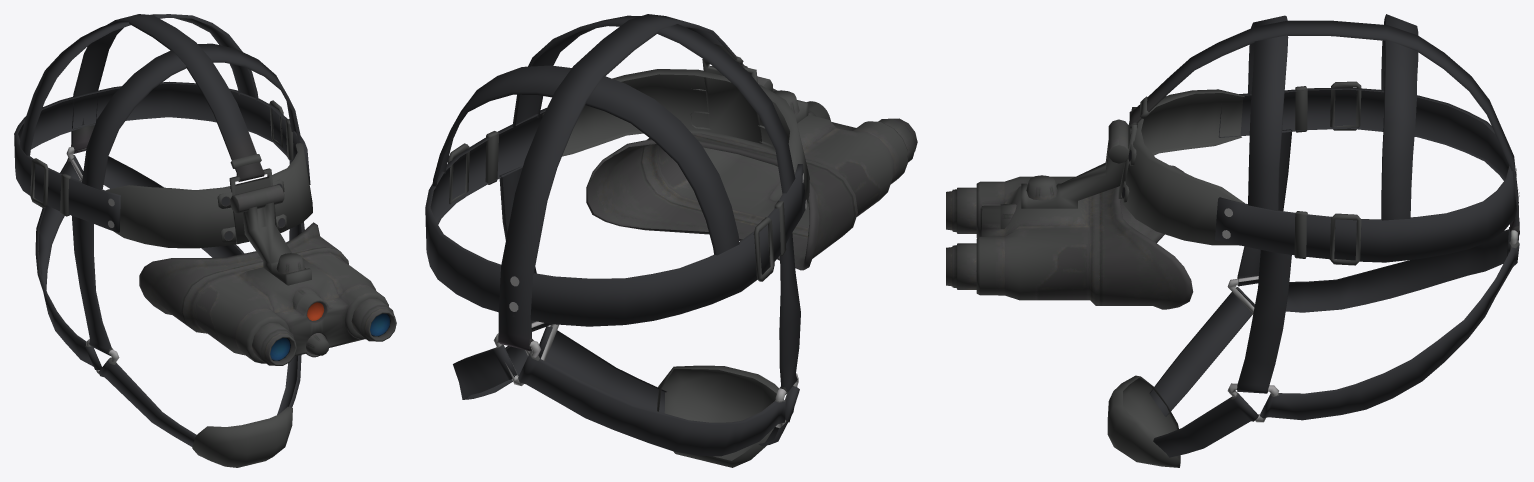
File: SurvivorMale_Face_Goggles_NightVision_LOD0.glb
The picture shows the model from 3 angles, left to right: view 1: azimuth 30°, elevation 25°; view 2: azimuth 150°, elevation 25°; view 3: azimuth 270°, elevation 25°; orthographic projection. The views are drawn at different scales.
Parts seen in each view (by area): view 1: Hoodie; view 2: Hoodie; view 3: Hoodie.
Boxes of the visible parts, x1,y1,x2,y2 form: Hoodie: [14, 14, 396, 467]; Hoodie: [425, 14, 917, 467]; Hoodie: [946, 14, 1519, 467].
Bounding box in the file's own units: 0.1676 × 0.2458 × 0.2974.
Materials: 1 (1 with a texture image).
